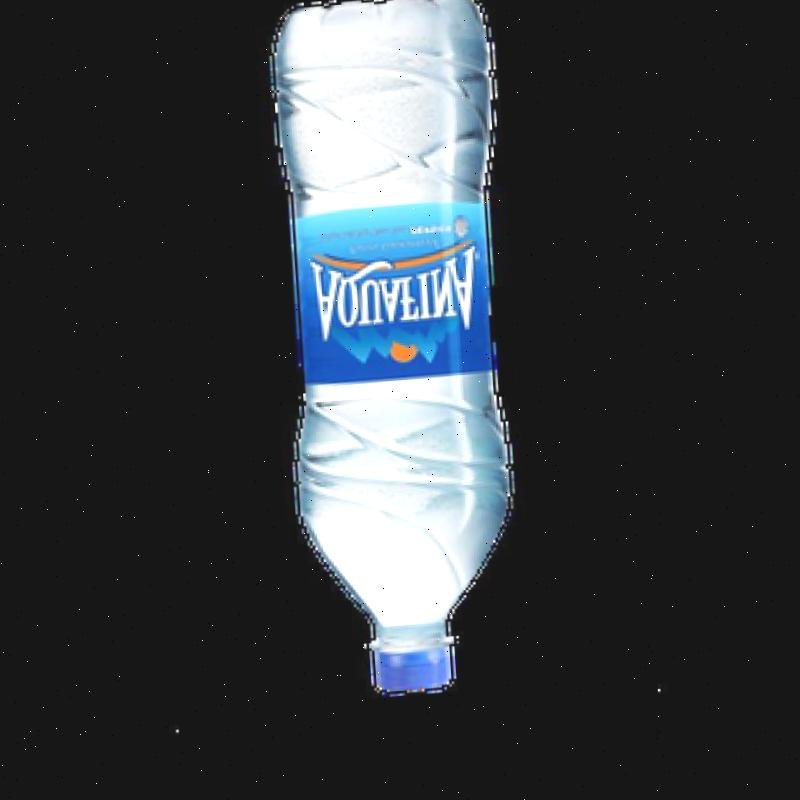botella: (257, 0, 537, 705)
